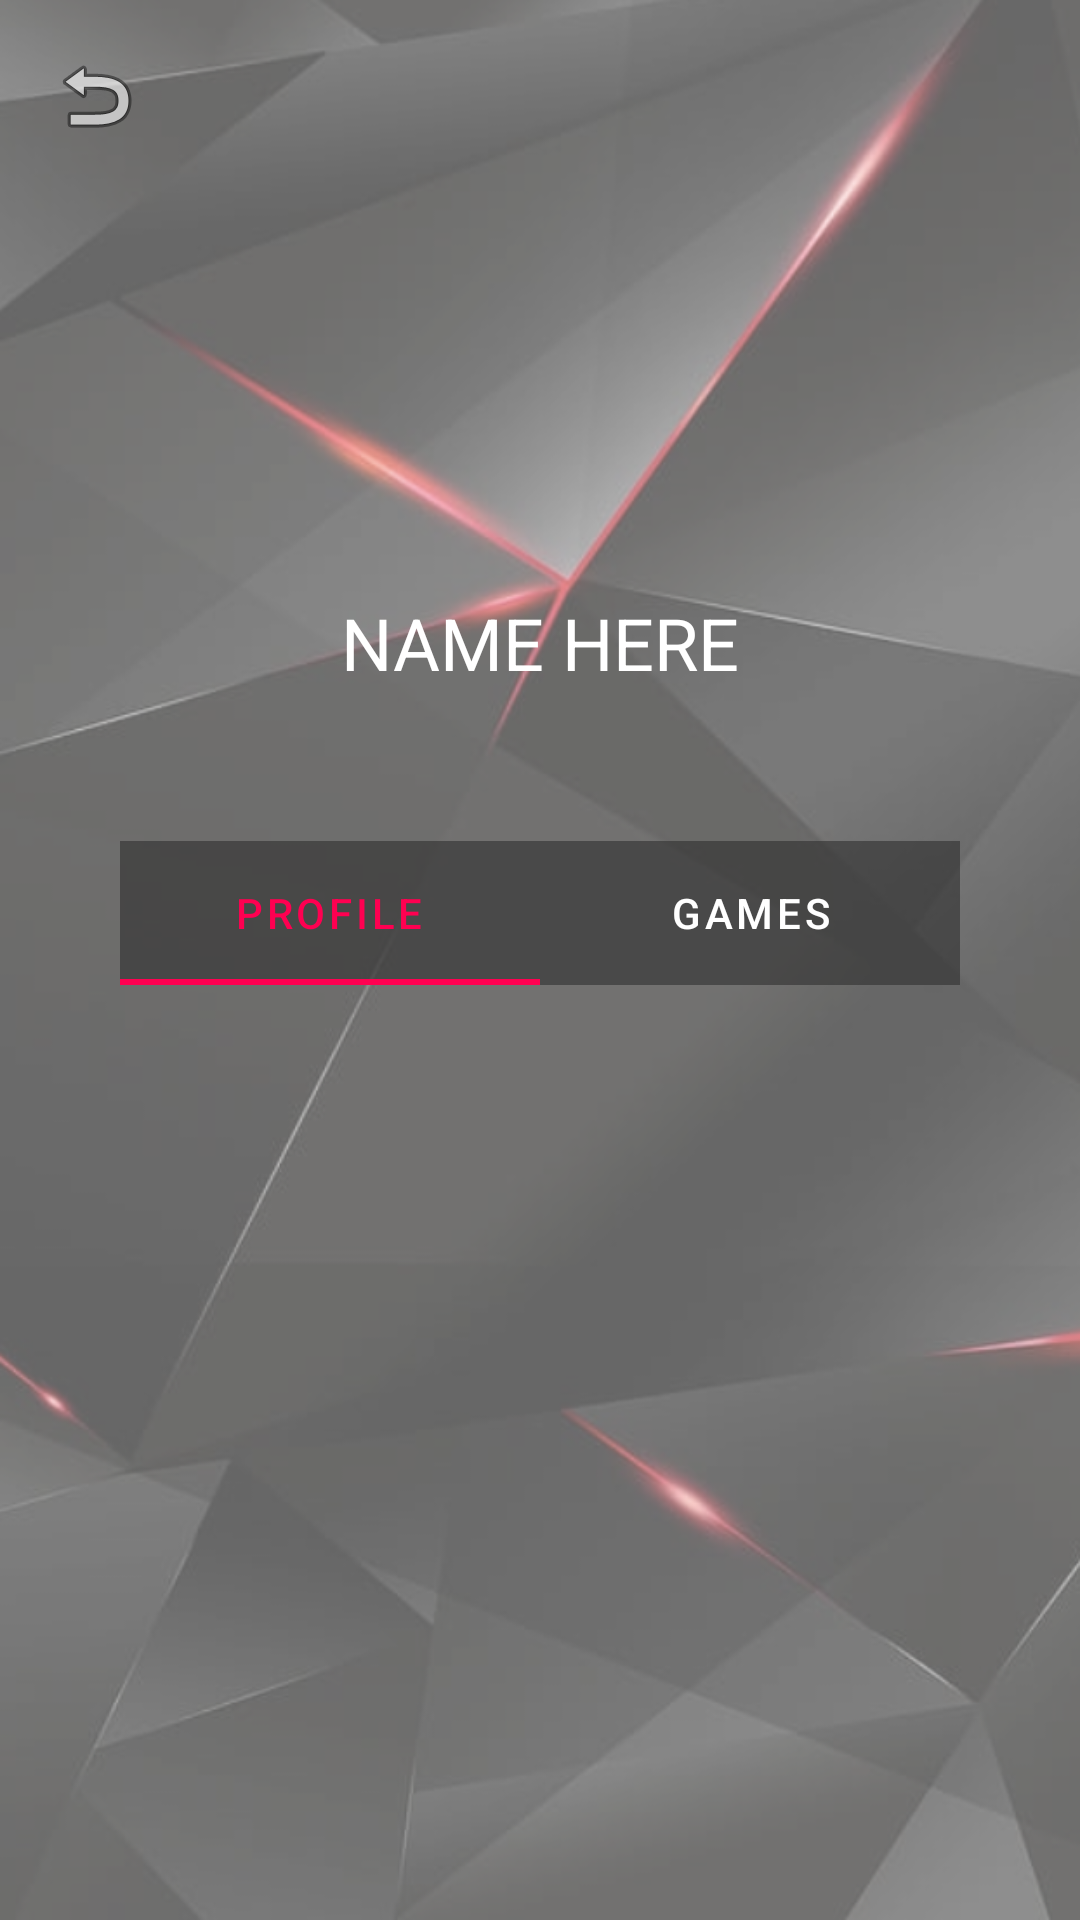

Locate icon controls on the screen. Image size 1080px×1920px, boxes as (x1, y1, x2, y2).
revert: (48, 55, 144, 128)
